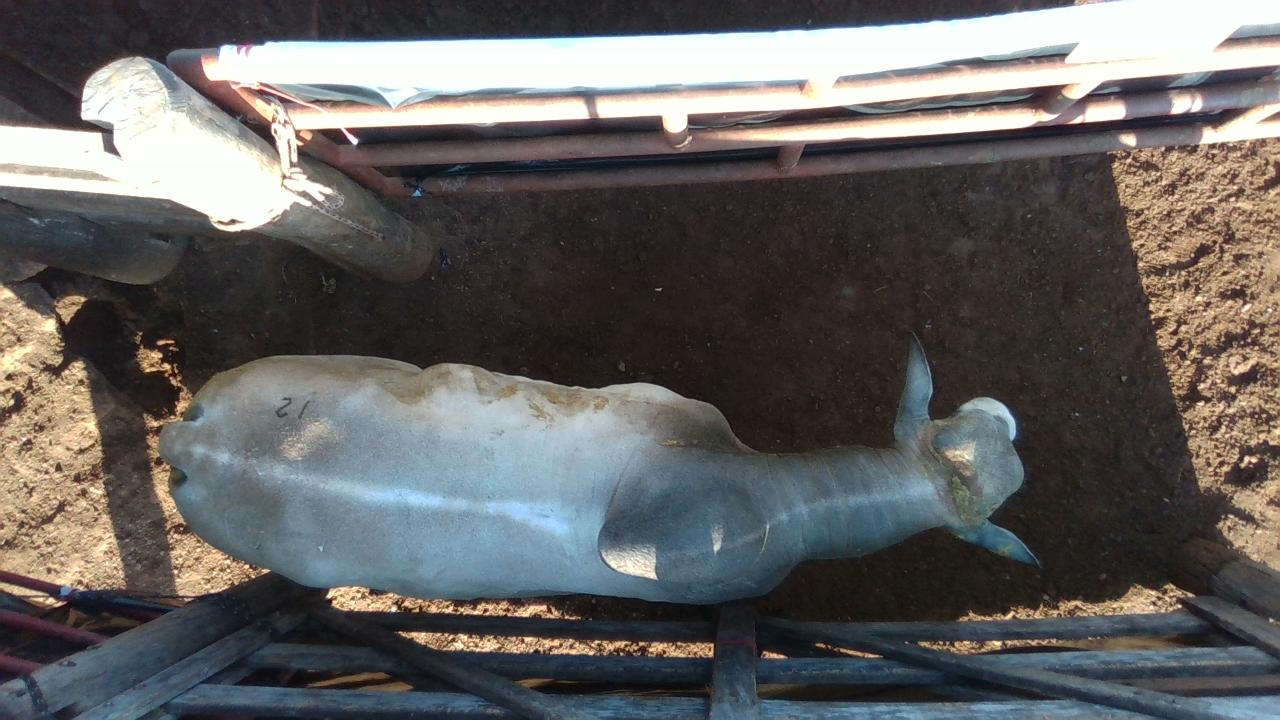cattle: (149, 319, 1054, 610)
